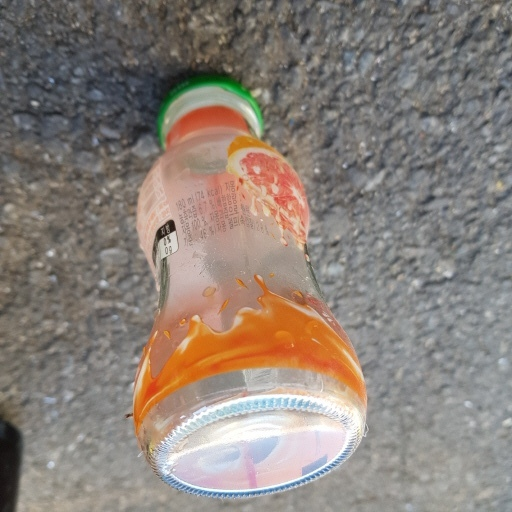Glass_4: (133, 67, 367, 499)
